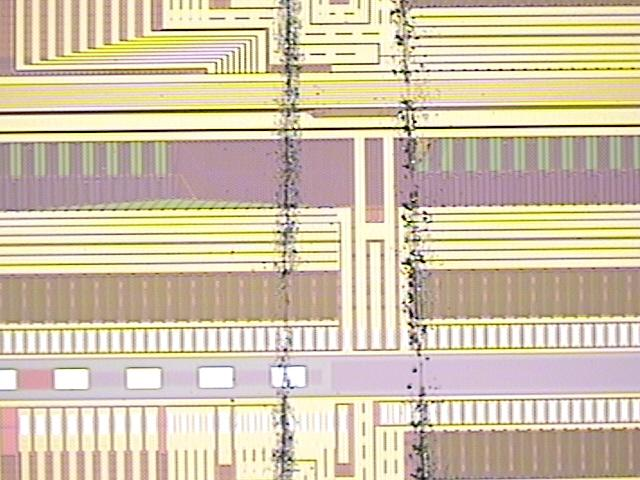SCRATCH: (266, 1, 445, 480)
